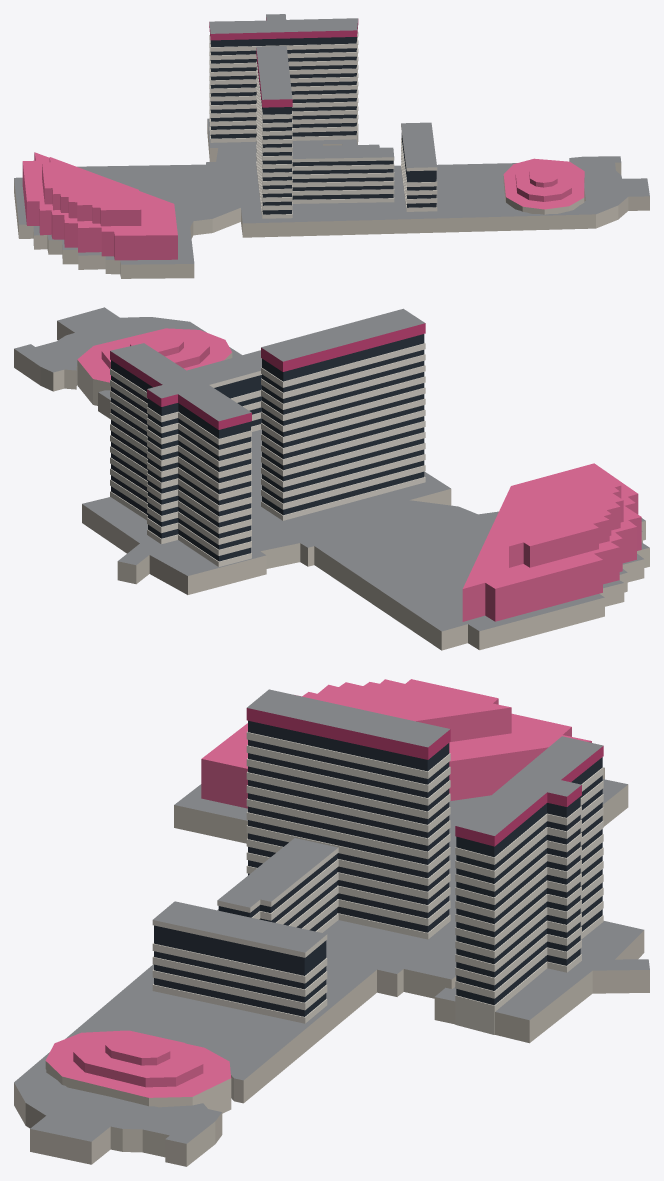
The model's file is circus_circus_las_vega_w135332959.glb.
The picture shows the model from 3 angles, top to bottom: view 1: azimuth 30°, elevation 25°; view 2: azimuth 150°, elevation 25°; view 3: azimuth 270°, elevation 25°; orthographic projection. The views are drawn at different scales.
Visible parts, largest first — view 1: Resort_w135332959; view 2: Resort_w135332959; view 3: Resort_w135332959.
Boxes of the visible parts, x1,y1,x2,y2 form: Resort_w135332959: (14, 14, 649, 278); Resort_w135332959: (14, 307, 649, 650); Resort_w135332959: (14, 679, 649, 1166).
Bounding box in the file's own units: 422 × 103 × 276.
